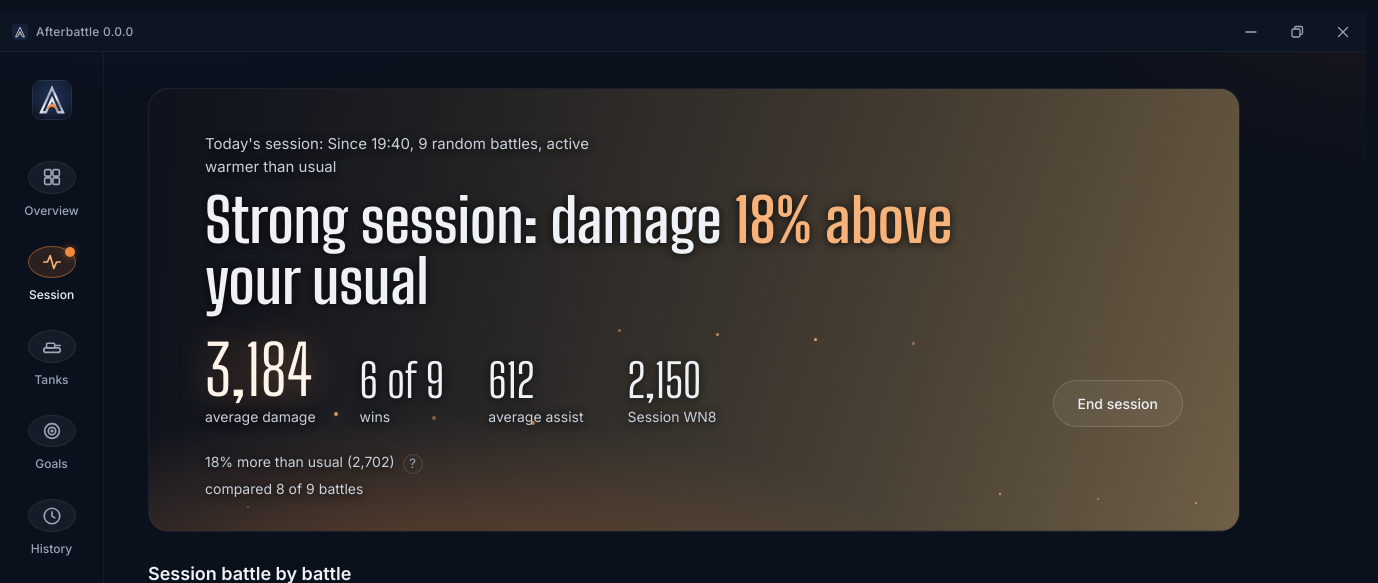
it: vehicle names (E5-ui §2) › asks again in the other language and falls back to the readable code
Click the button "Tanks" at (52, 360), box [20,329,84,390]
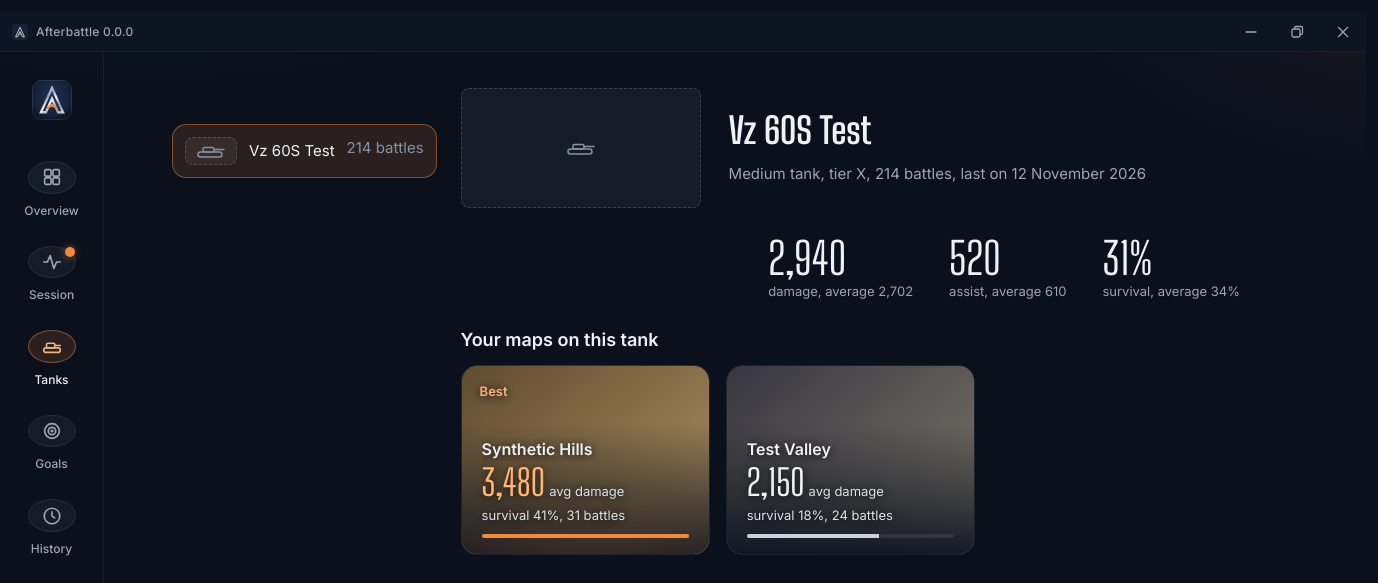
Check: the heading "Vz 60S Test" is shown, box [729,109,872,152]
